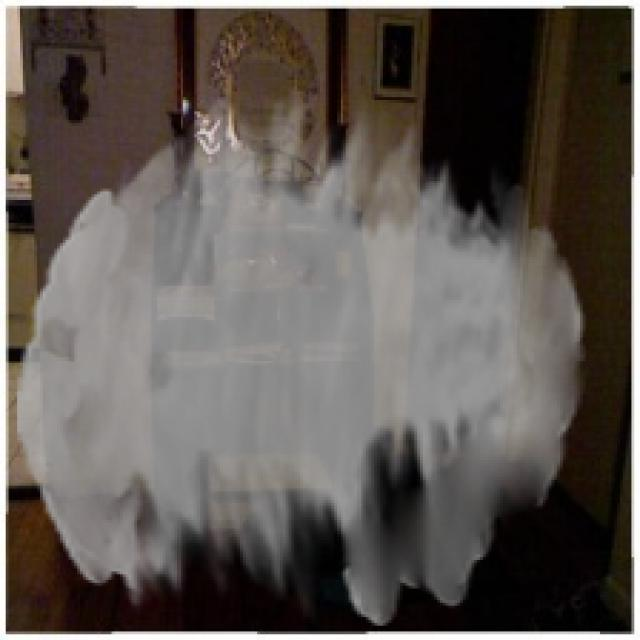Smoke: (17, 91, 586, 626)
